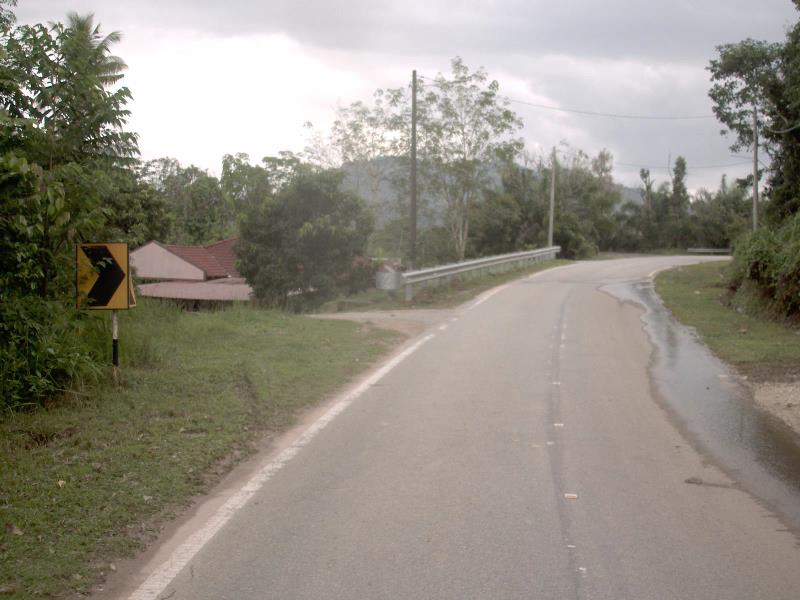traffic_sign: (65, 231, 141, 323)
